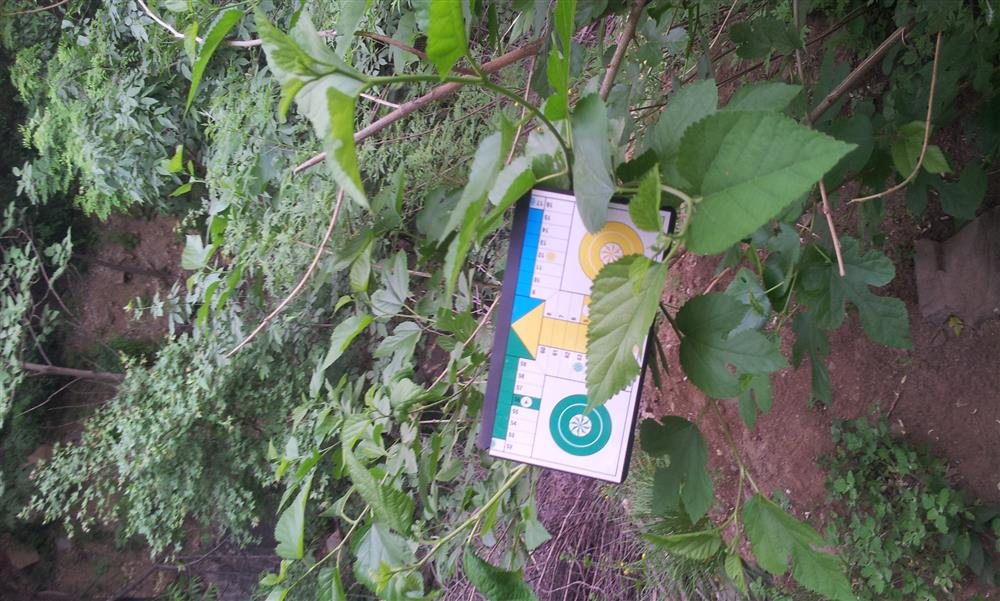parchis: (467, 174, 679, 492)
